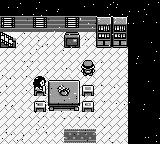leer: (64, 33, 81, 48)
main: (80, 60, 96, 76)
no-caminable: (1, 0, 160, 143), (1, 16, 95, 32), (96, 16, 127, 47), (48, 81, 80, 111)
npc: (34, 76, 46, 92)
puerta: (62, 127, 98, 144), (1, 33, 16, 48)
